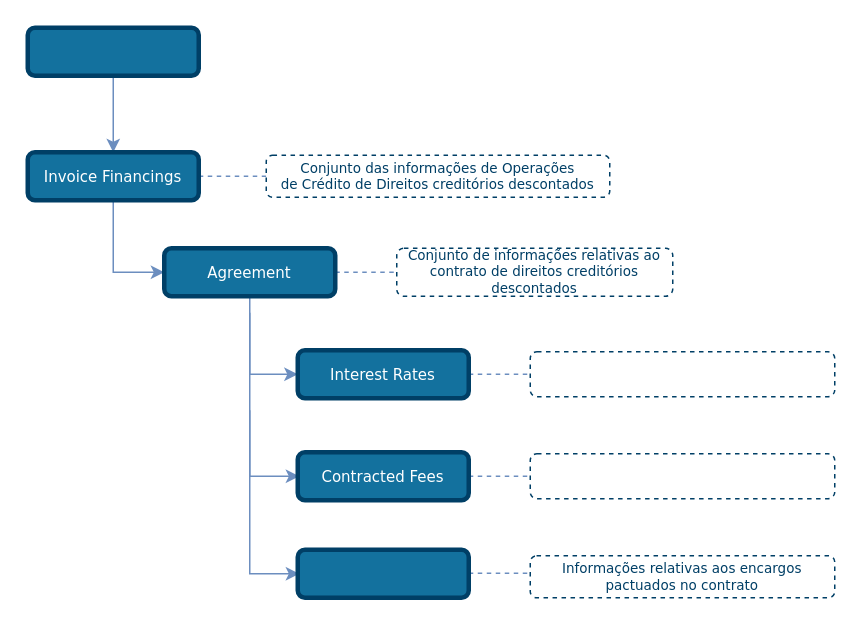
The diagram is 861 pixels wide and 626 high, and some of its shapes have lost their labels. Here are the shapes that lost their labels. From the top down, the box of each, then its label:
(25, 25, 200, 77): Data
(529, 350, 835, 397): Informações relativas à composição das taxas de juros remuneratórias
(529, 452, 835, 499): Informações relativas às tarifas pactuadas no contrato
(295, 547, 470, 599): Contracted Finance Charges
